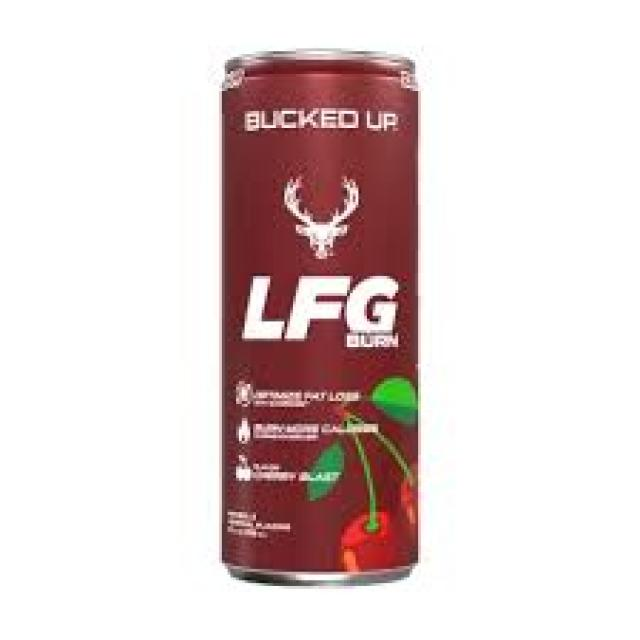Cans: (210, 34, 432, 595)
